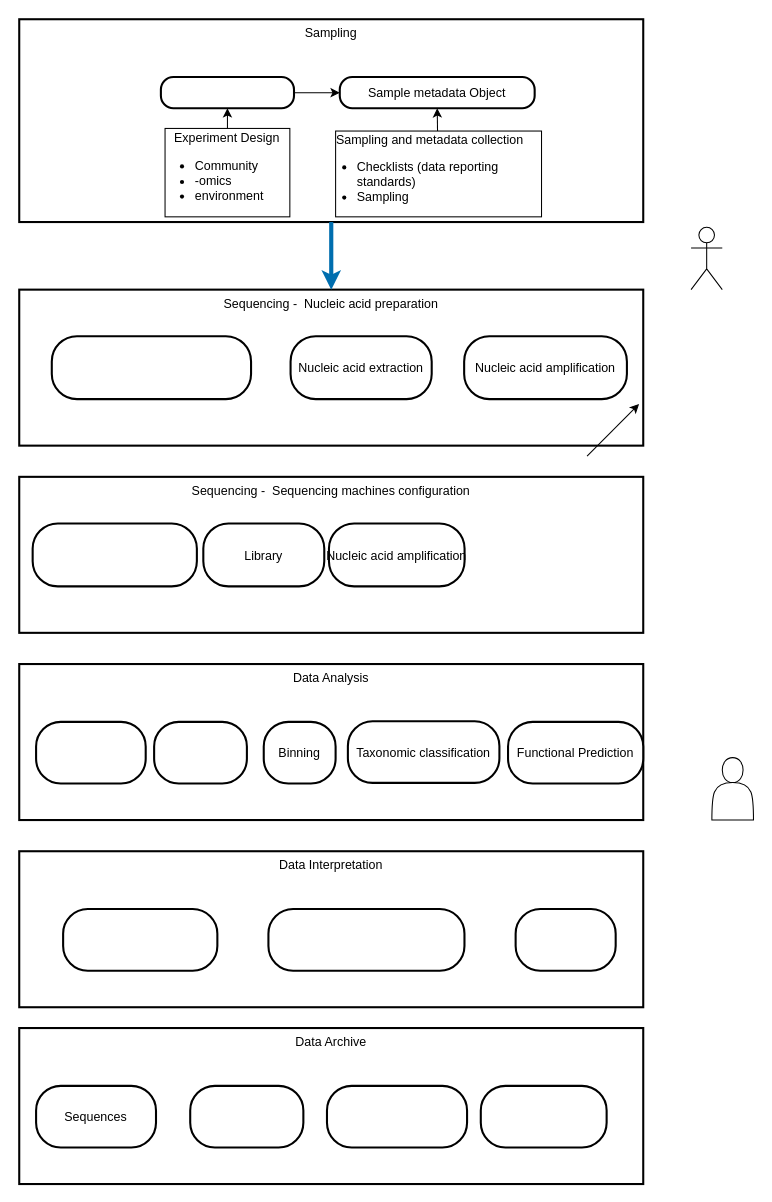
Image size: 772x1202. Some labels were removed from this diagram. Each missing label, with the centre of its shape:
Actor: point 706,258
Assembling: point 200,752
Biological Insight: point 140,939
Discovery: point 565,939
Hypothesis Generation: point 366,939
Machine technology: point 114,554
Quality control: point 90,752
Sample material Pre-processing: point 151,367
Study metadata Object: point 227,92
